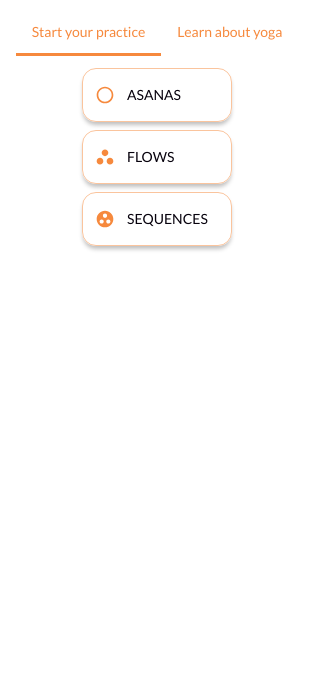
Test case: TabHeader Component › tab panels and content › renders EightLimbs component in second tab panel
Click the tab with aria-label "learn about yoga tab". click: (230, 32)
box: [161,8,298,56]
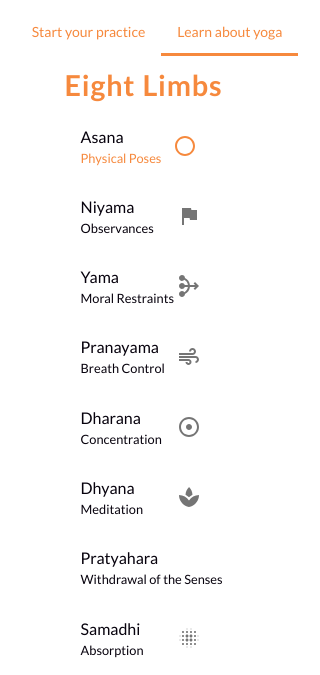
Expected: the heading "Eight Limbs" is shown, [64,68,249,102]
Expected: the text "Niyama" is shown, [80,197,134,216]
Expected: the text "Yama" is shown, [80,267,119,286]
